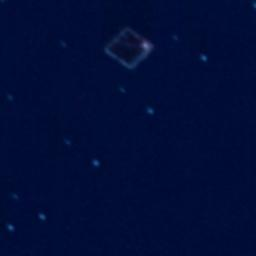square_solid: (102, 23, 159, 72)
